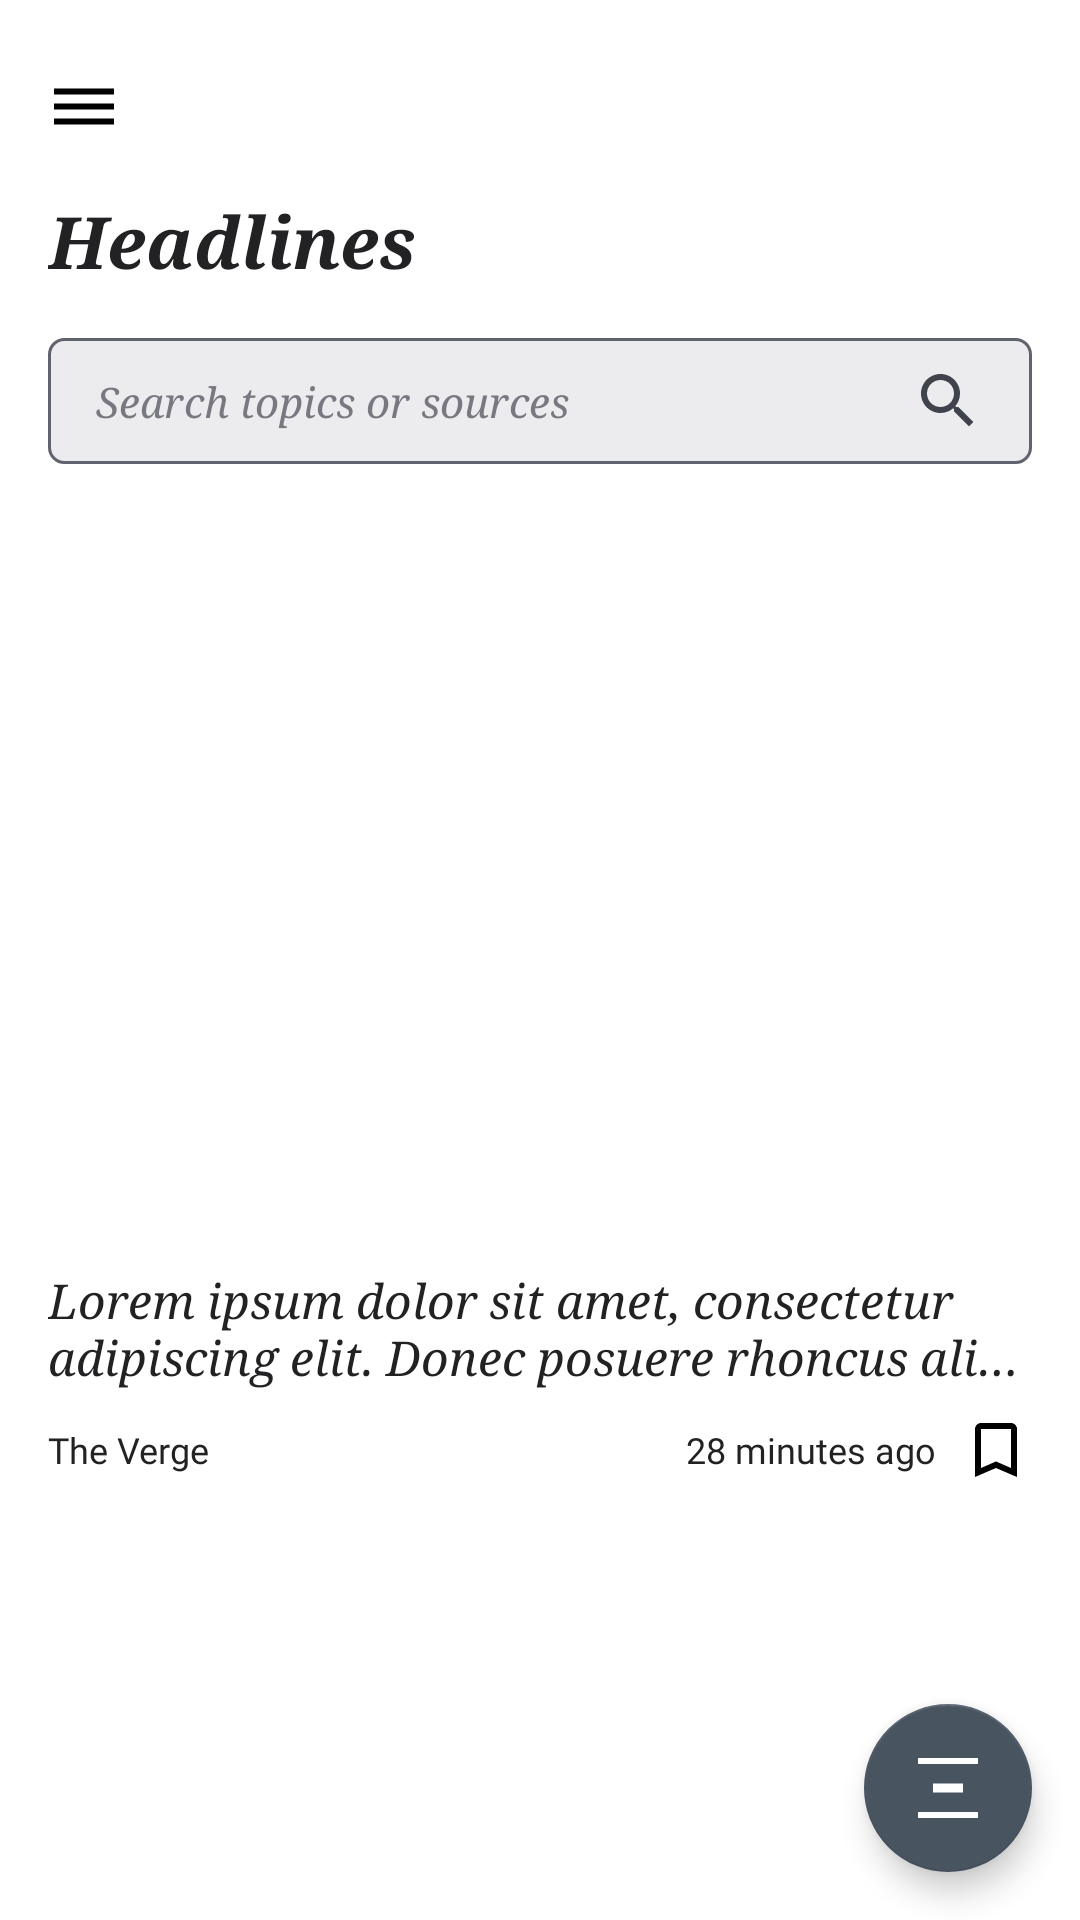

Where to tap for icons on this 1080x1920 app screen, as (x=x, y=y):
bookmark: (x=996, y=1450)
dehaze: (x=84, y=106)
